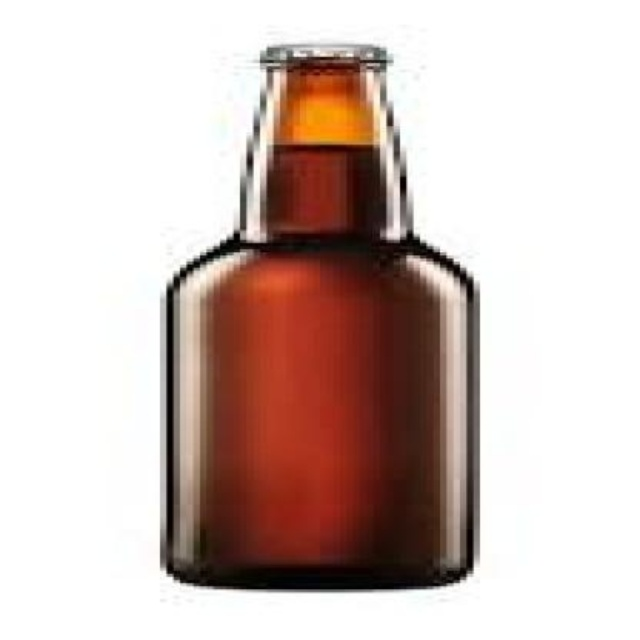trash: (163, 45, 477, 586)
